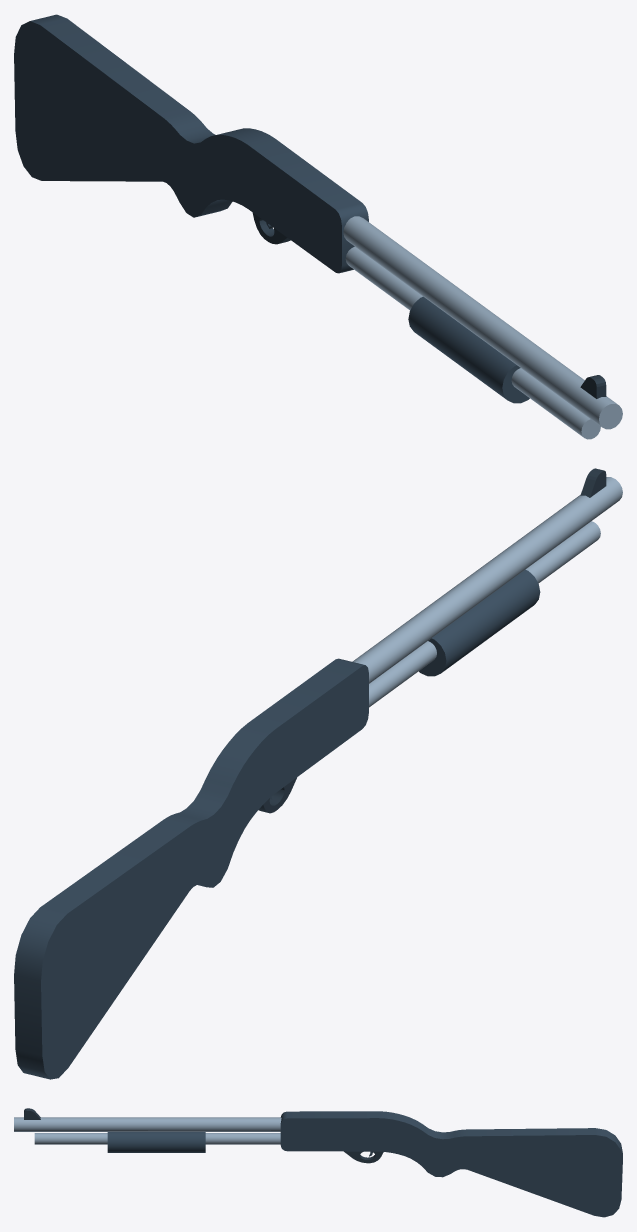
The model's file is Shotgun.fbx.
3 views of the same model, one above another, from view 1: azimuth 30°, elevation 25°; view 2: azimuth 150°, elevation 25°; view 3: azimuth 270°, elevation 25° (orthographic). The views are drawn at different scales.
Parts seen in each view (by area): view 1: Shotgun; view 2: Shotgun; view 3: Shotgun.
Boxes of the visible parts, <box> form: Shotgun: <box>14,14,622,439</box>; Shotgun: <box>14,468,622,1079</box>; Shotgun: <box>14,1108,622,1217</box>.
Bounding box in the file's own units: 0.0891 × 0.4476 × 2.37.
